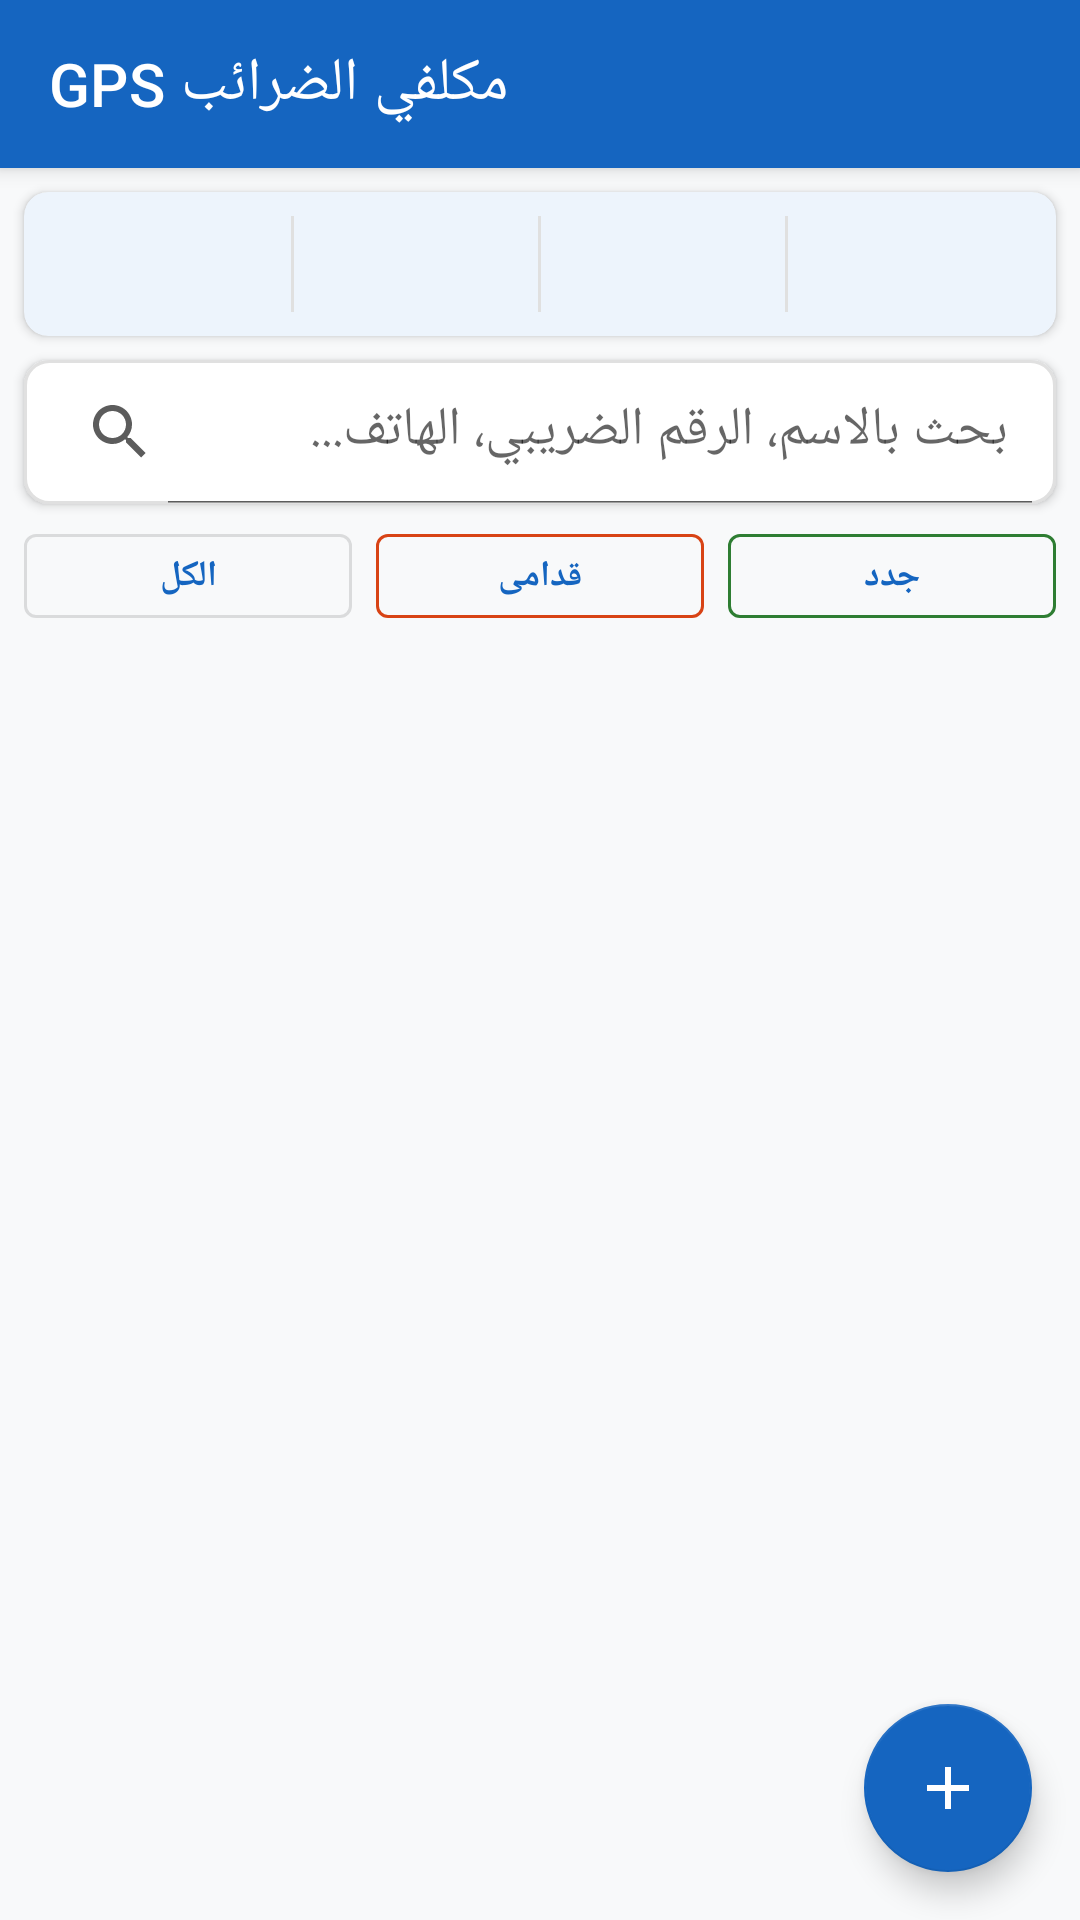

Icons on this 1080 × 1920 Android screen, each with the point to tap as (x=x, y=y):
إضافة مكلف: (x=948, y=1788)
